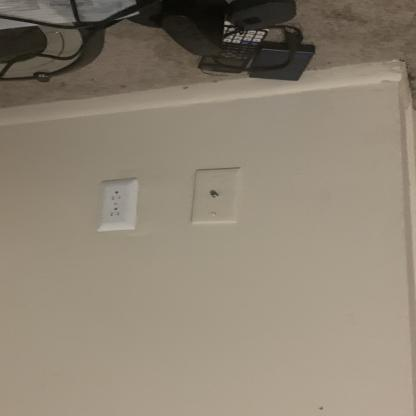OUTLET: (96, 179, 137, 232)
